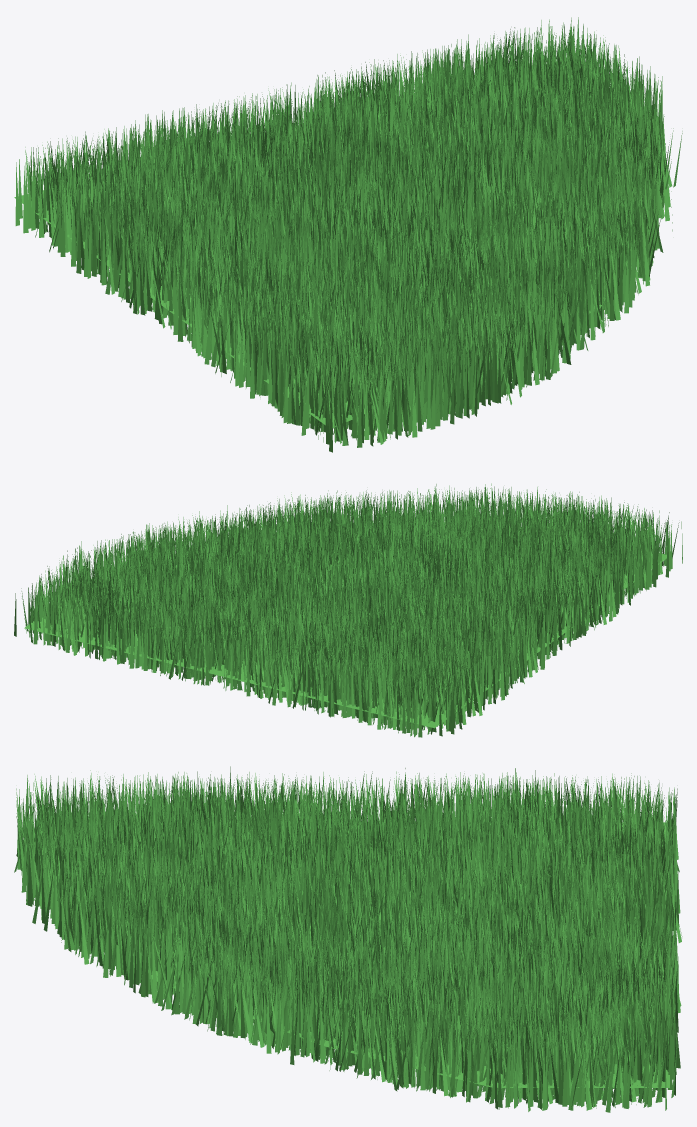
Rendered from [foliage] Grass quater circle shape.fbx.
3 views of the same model, one above another, from view 1: azimuth 30°, elevation 25°; view 2: azimuth 150°, elevation 25°; view 3: azimuth 270°, elevation 25° (orthographic). The views are drawn at different scales.
Visible parts, largest first — view 1: Grass quater circle shape_LOD0, Grass quater circle shape_GIPROXY; view 2: Grass quater circle shape_LOD0, Grass quater circle shape_GIPROXY; view 3: Grass quater circle shape_LOD0, Grass quater circle shape_GIPROXY.
Boxes of the visible parts, x1,y1,x2,y2 form: Grass quater circle shape_LOD0: (15, 17, 682, 452); Grass quater circle shape_GIPROXY: (14, 75, 631, 427); Grass quater circle shape_LOD0: (14, 483, 682, 737); Grass quater circle shape_GIPROXY: (24, 533, 666, 728); Grass quater circle shape_LOD0: (14, 766, 682, 1112); Grass quater circle shape_GIPROXY: (119, 822, 669, 1087).
Size of what is drawn, in the model's own units: 199 by 21.58 by 199.
